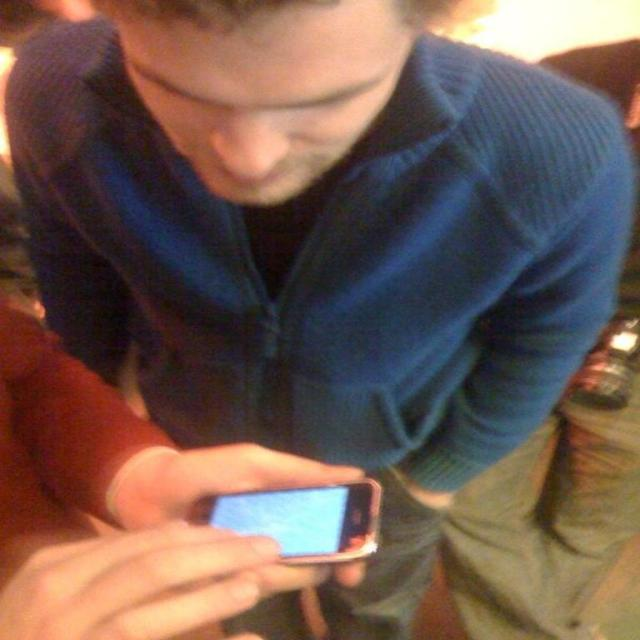Mobile-phone: (192, 477, 380, 566)
